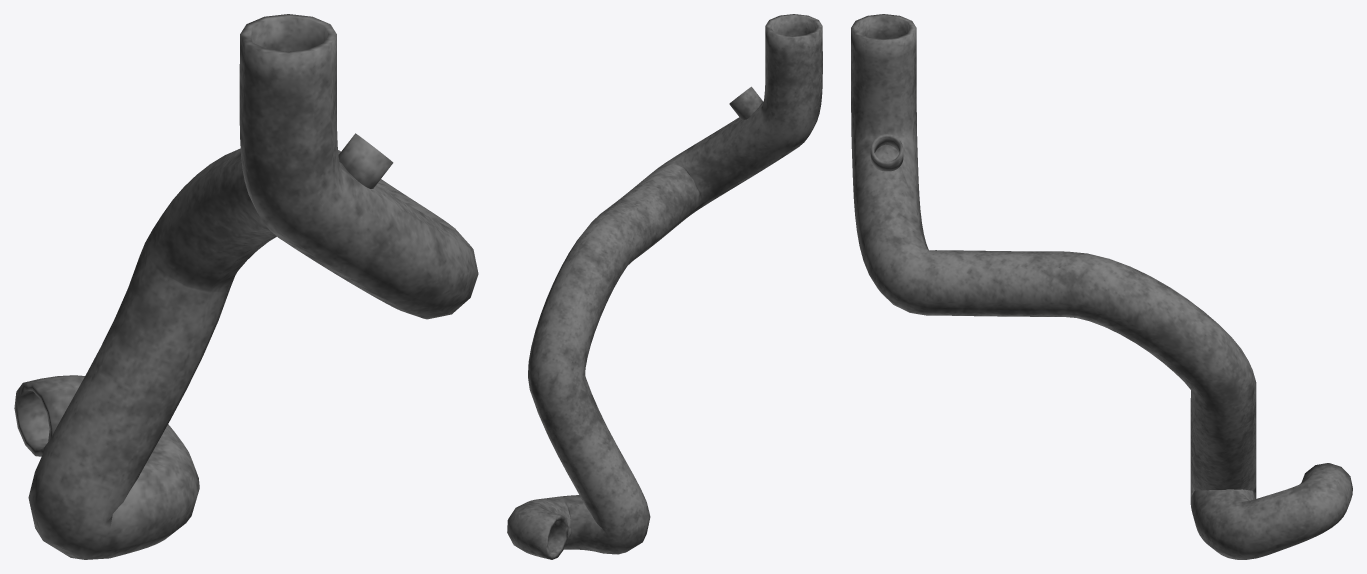
The model's file is turboBig-intercooler-tube.fbx.
The picture shows the model from 3 angles, left to right: view 1: azimuth 30°, elevation 25°; view 2: azimuth 150°, elevation 25°; view 3: azimuth 270°, elevation 25°; orthographic projection. The views are drawn at different scales.
Parts seen in each view (by area): view 1: turboBig-intercooler-tube; view 2: turboBig-intercooler-tube; view 3: turboBig-intercooler-tube.
Boxes of the visible parts, <box> form: turboBig-intercooler-tube: <box>14,14,478,559</box>; turboBig-intercooler-tube: <box>507,14,822,559</box>; turboBig-intercooler-tube: <box>851,14,1352,559</box>.
Size of the model in its own units: 18 by 49.3 by 46.02.
